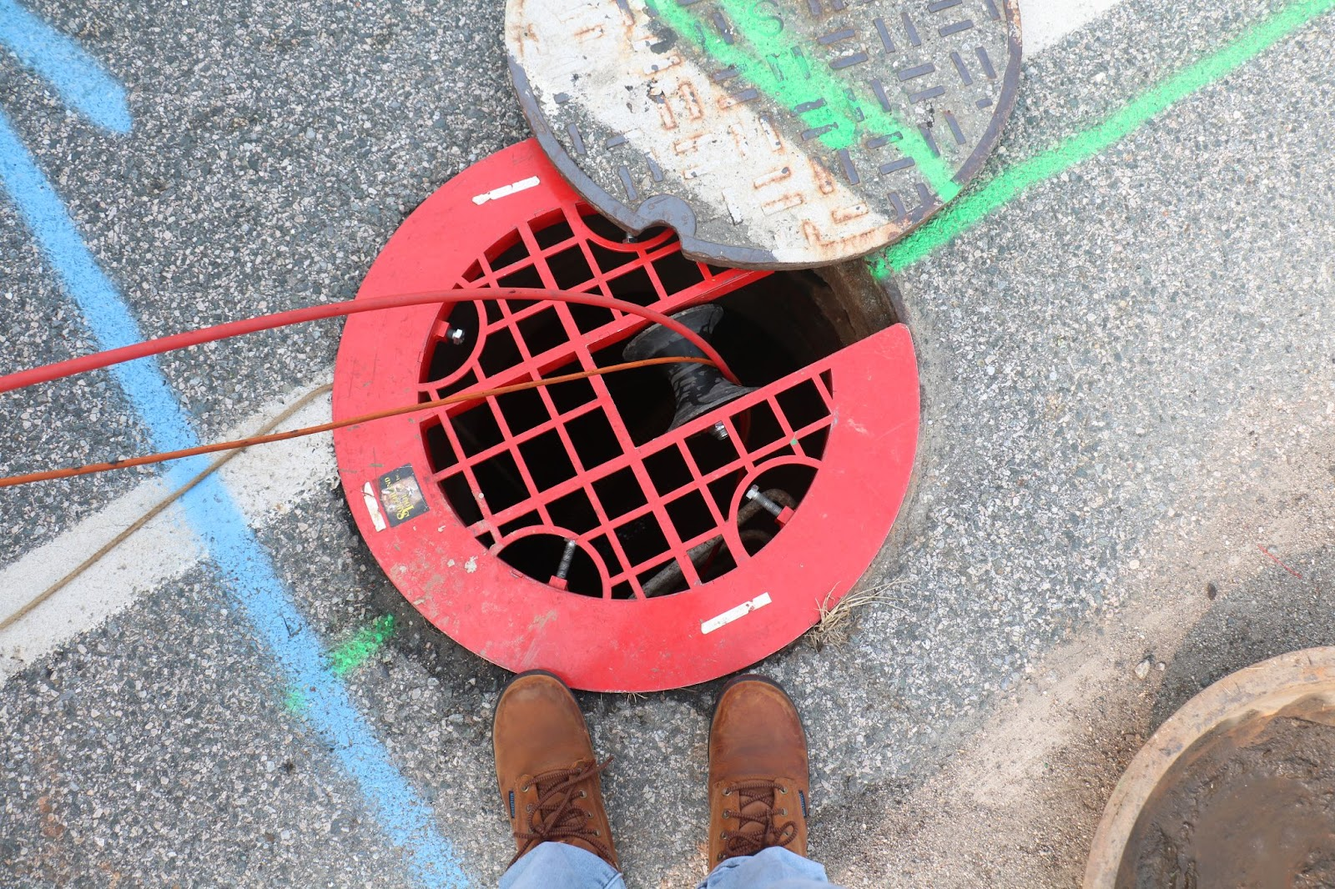Open_manhole: (228, 1, 1003, 676)
